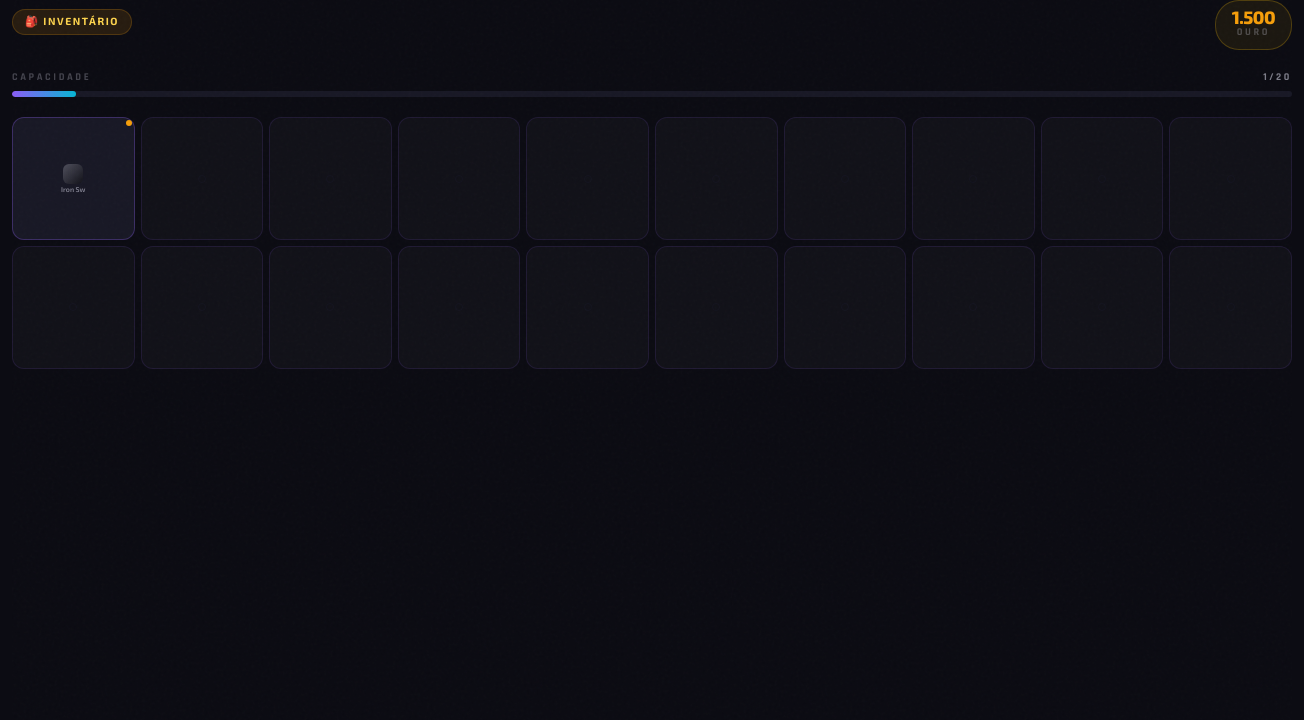
Test: InventoryPanel › item já equipado exibe botão Desequipar
Click the button titled "Iron Sword".
click(73, 179)  # box x1=12 y1=117 x2=135 y2=240
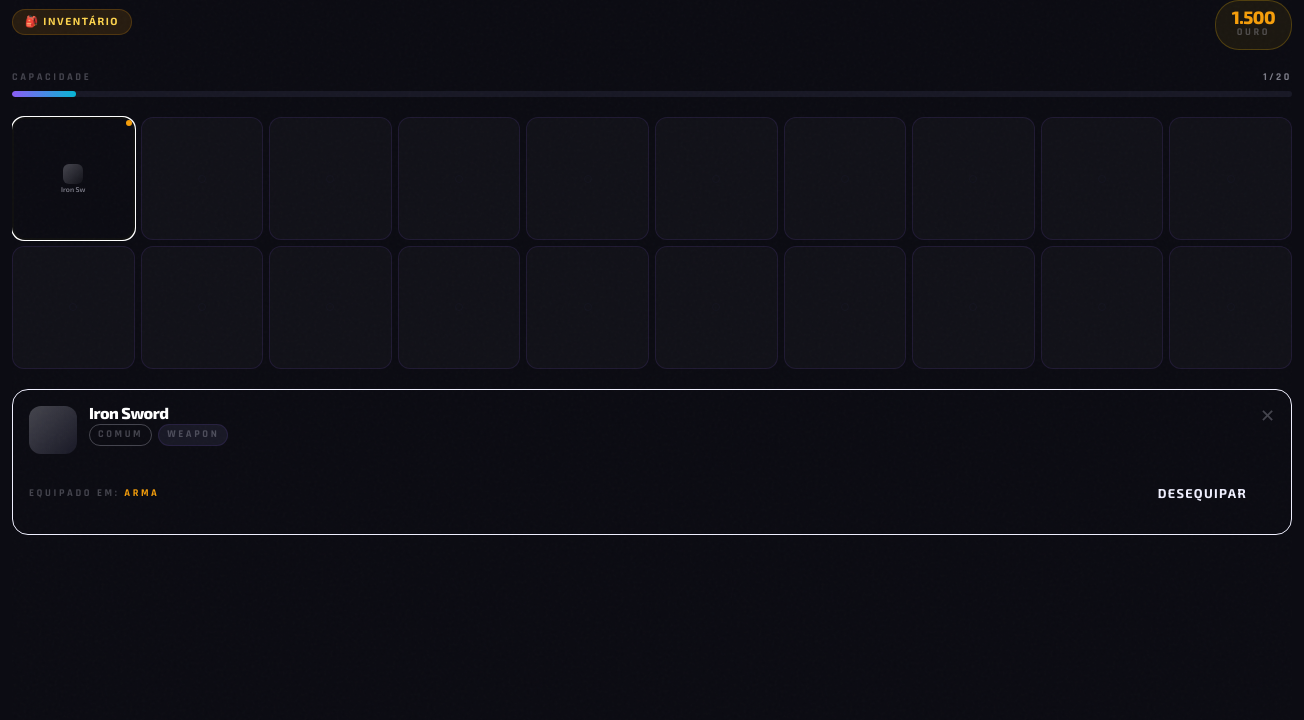
Check: the button "Desequipar" is shown, box x1=1130 y1=470 x2=1275 y2=518
Check: the text "Arma" is shown, box x1=124 y1=486 x2=160 y2=500
